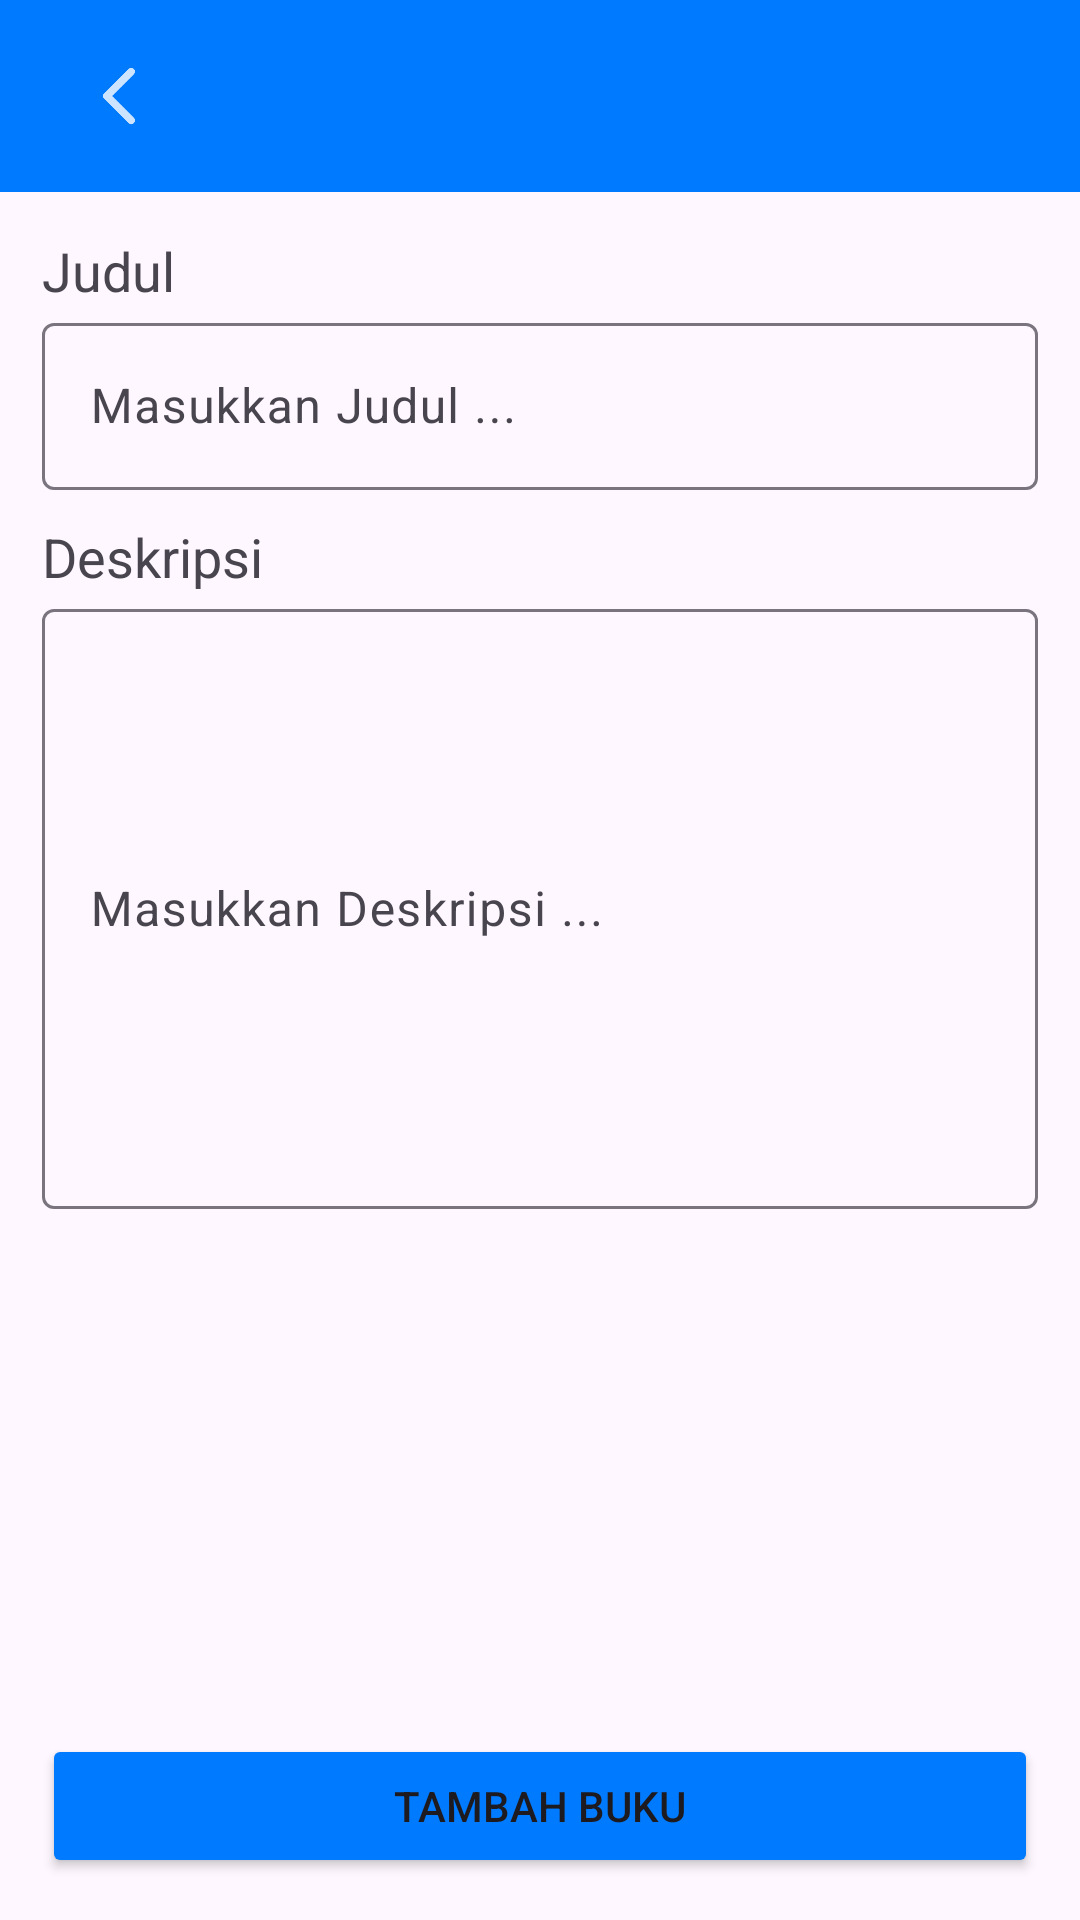

Where icons sit on this 1080×1920 app screen, as (left=x1, top=y1, right=x2, bottom=y2):
Back: (left=103, top=68, right=135, bottom=124)
